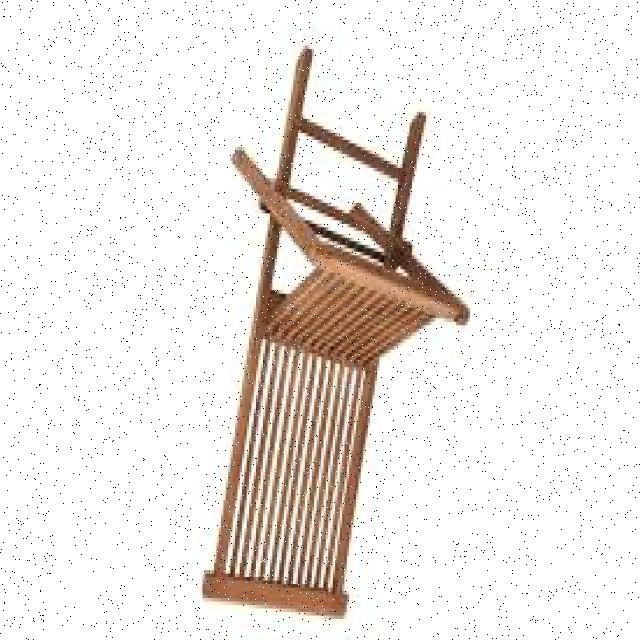bottle: (204, 47, 471, 624)
